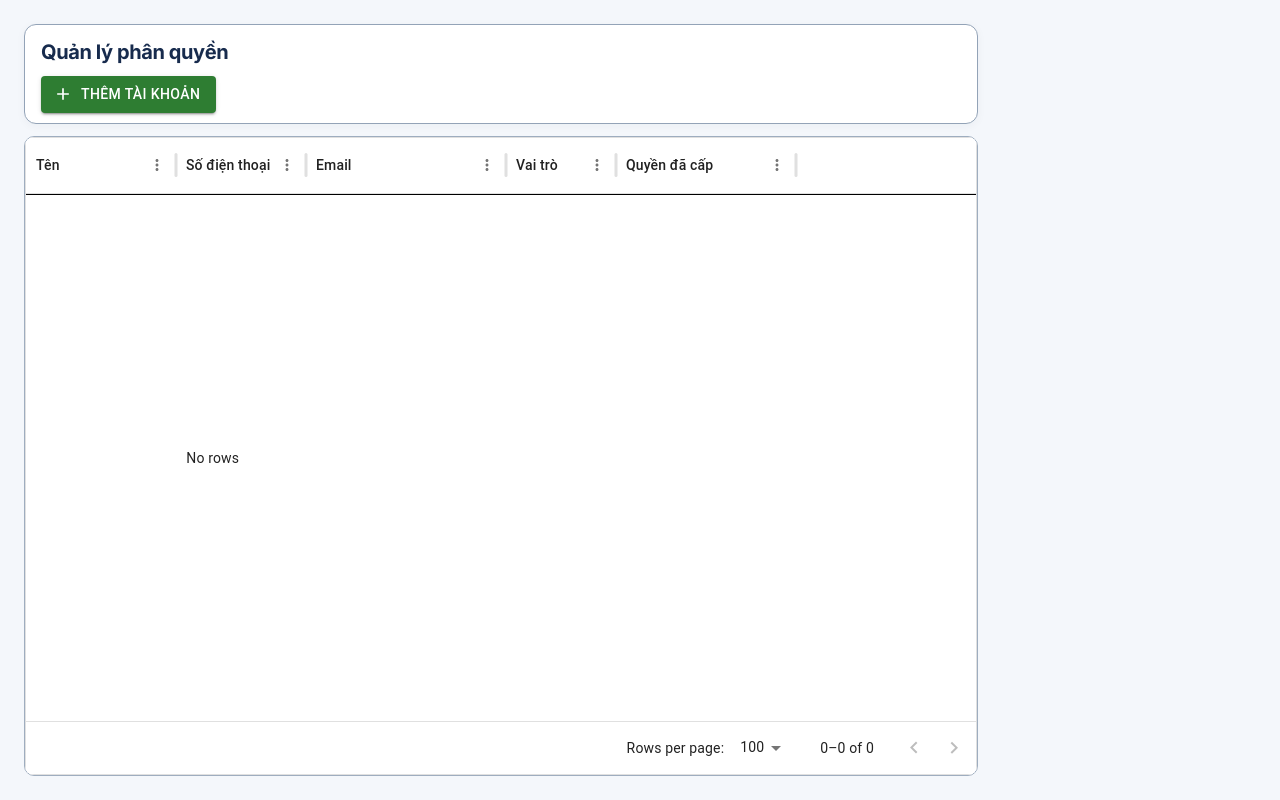
Account › enables dependent action after selecting dependency
The image size is (1280, 800).
Click the button "Thêm tài khoản".
click(129, 94)  # box [41,76,216,112]
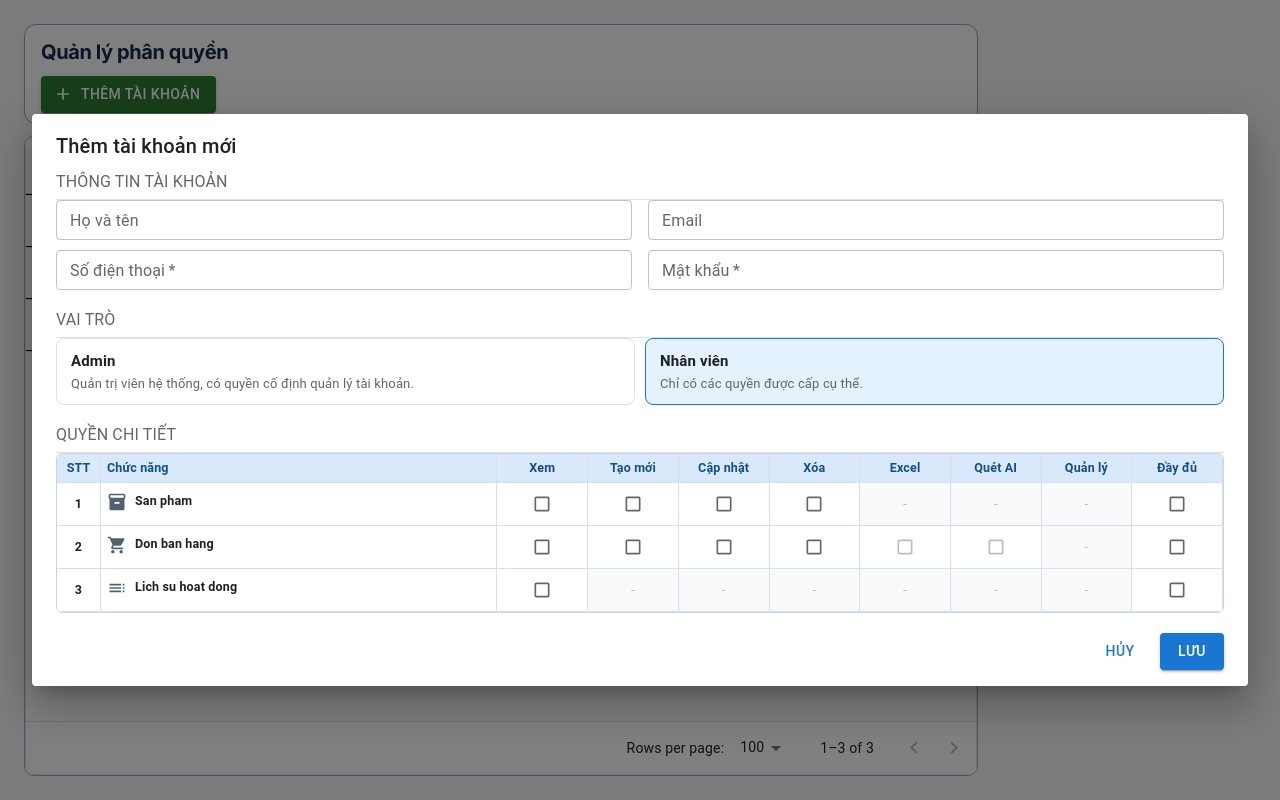
Expected: the text "Don ban hang" is shown, [135,536,214,553]
Expected: the element named "Don ban hang - Excel" is shown, [895,538,915,558]
Expected: the element named "Don ban hang - Quet AI" is shown, [986,538,1006,558]
Click the checkbox named "Don ban hang - Sua".
click(724, 548)  # box [714,538,734,558]
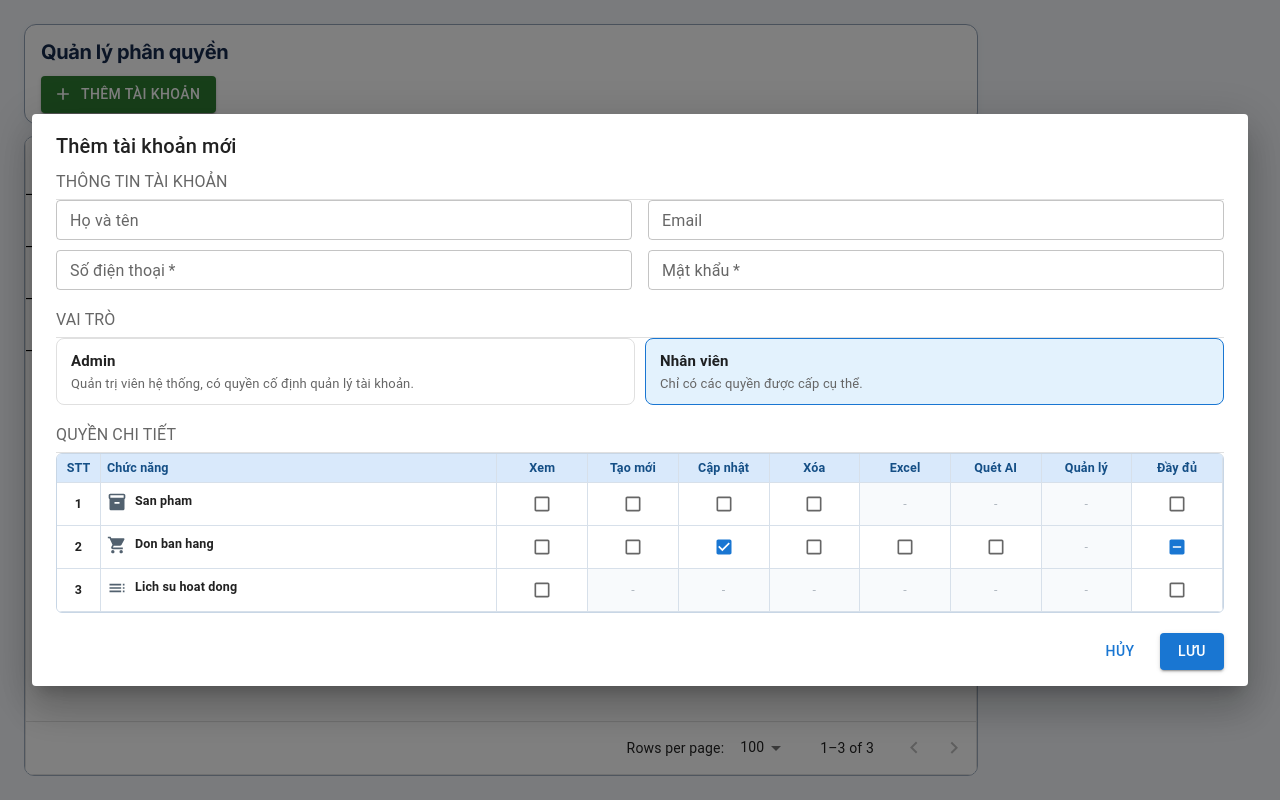
Expected: the checkbox named "Don ban hang - Excel" is enabled, [895,538,915,558]
Expected: the checkbox named "Don ban hang - Quet AI" is enabled, [986,538,1006,558]
